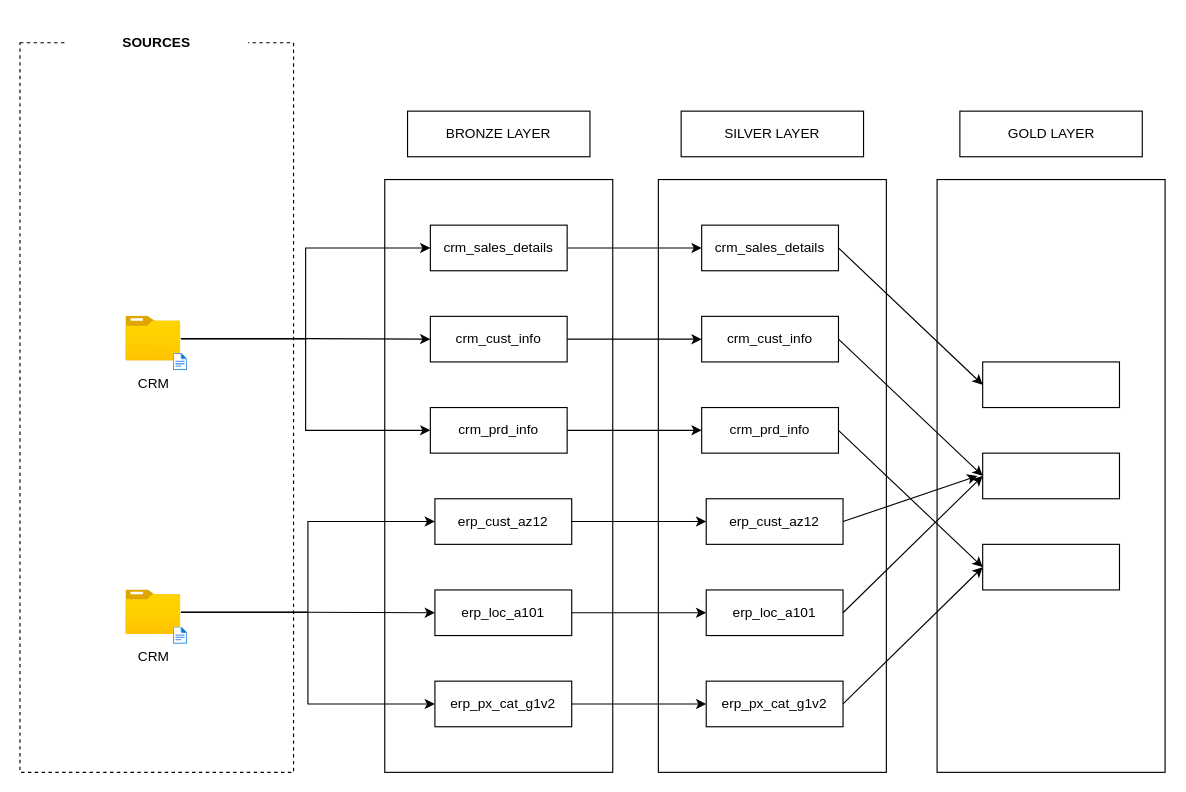
Image size: 1186x792. Some labels were removed from this diagram. The box of each missing label's shape, as (x1, y1, x2, y2) in pixels:
dim_customers: (982, 452, 1119, 499)
drim_products: (982, 543, 1119, 590)
fact_sales: (982, 361, 1119, 408)
